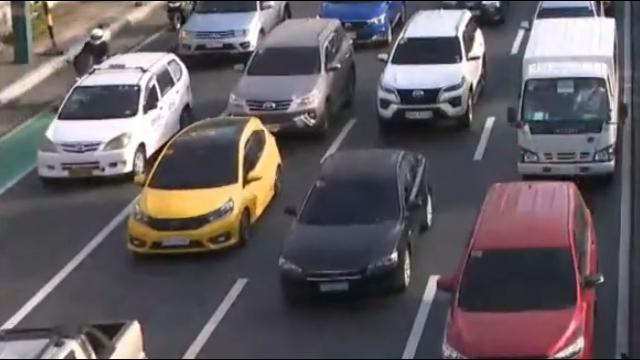car: (437, 177, 605, 360), (278, 150, 436, 309), (127, 113, 282, 259), (33, 53, 192, 187), (226, 16, 359, 141), (377, 7, 487, 135), (175, 0, 296, 62), (318, 0, 410, 49), (531, 1, 605, 24)
motorcycle: (67, 22, 110, 89)
truck: (506, 17, 628, 182)
